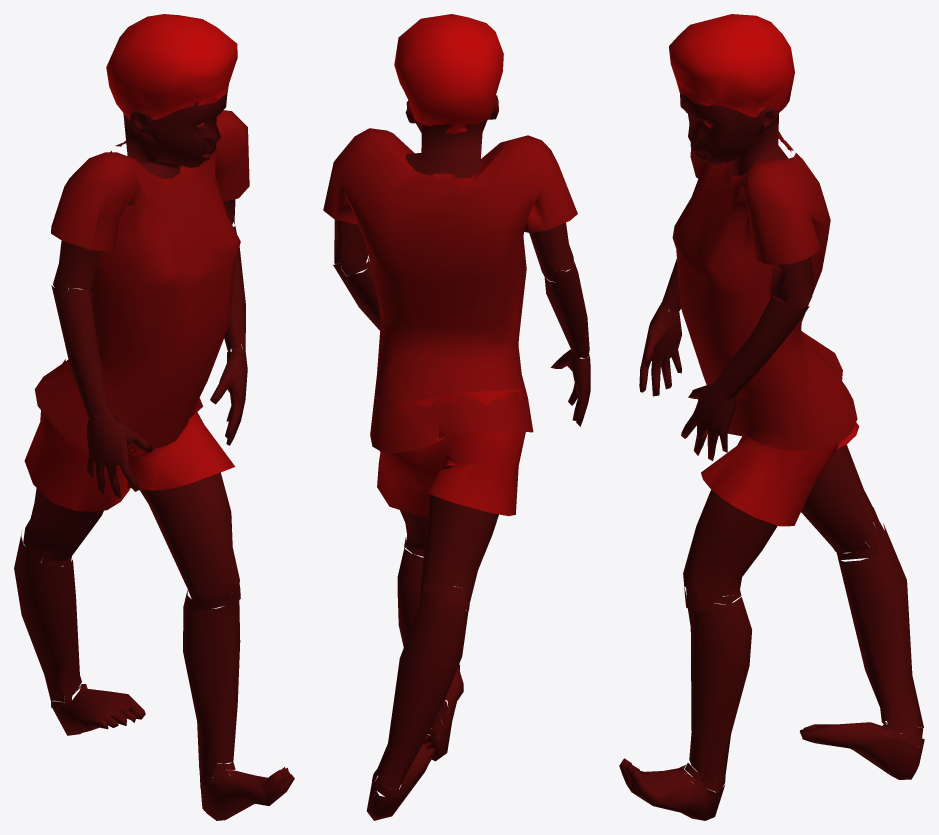
The model's file is crowd_kidWait.glb.
3 views of the same model, side by side, from view 1: azimuth 30°, elevation 25°; view 2: azimuth 150°, elevation 25°; view 3: azimuth 270°, elevation 25° (orthographic). The views are drawn at different scales.
Visible parts, largest first — view 1: kidWait; view 2: kidWait; view 3: kidWait.
Part boxes in pixels (bbox=[...]): kidWait: bbox=[14, 14, 294, 820]; kidWait: bbox=[323, 14, 590, 820]; kidWait: bbox=[619, 14, 924, 820].
Size of the model in its own units: 0.4231 by 1.42 by 0.4987.
